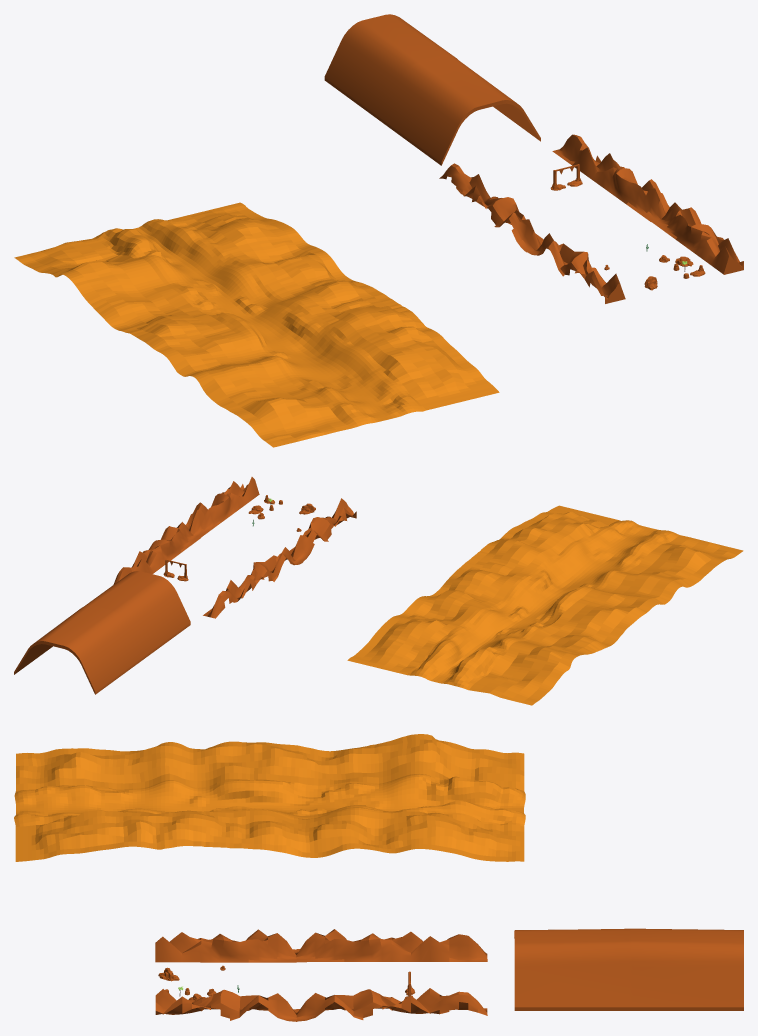
The model's file is desert theme .fbx.
3 views of the same model, one above another, from view 1: azimuth 30°, elevation 25°; view 2: azimuth 150°, elevation 25°; view 3: azimuth 270°, elevation 25° (orthographic). The views are drawn at different scales.
Visible parts, largest first — view 1: Plane, Cube, polySurface4.002, polySurface4.001, polySurface4.004, polySurface4.003; view 2: Plane, Cube, polySurface4.001, polySurface4.002, polySurface4.004, polySurface4.003; view 3: Plane, Cube, polySurface4.004, polySurface4.003, polySurface4.002, polySurface4.001.
Boxes of the visible parts, <box> form: Plane: <box>14,202,499,447</box>; Cube: <box>324,14,540,165</box>; polySurface4.002: <box>552,134,669,221</box>; polySurface4.001: <box>652,202,743,274</box>; polySurface4.004: <box>439,163,543,252</box>; polySurface4.003: <box>527,233,625,303</box>; Plane: <box>347,505,743,705</box>; Cube: <box>14,571,190,694</box>; polySurface4.001: <box>186,477,259,537</box>; polySurface4.002: <box>113,522,201,584</box>; polySurface4.004: <box>203,547,302,618</box>; polySurface4.003: <box>289,498,356,562</box>; Plane: <box>14,734,525,861</box>; Cube: <box>514,928,743,1010</box>; polySurface4.004: <box>296,929,487,962</box>; polySurface4.003: <box>155,929,296,962</box>; polySurface4.002: <box>296,988,487,1021</box>; polySurface4.001: <box>155,989,296,1021</box>.
Size of the model in its own units: 326240 by 30057 by 382675.
Materials: 2 (2 with a texture image).
